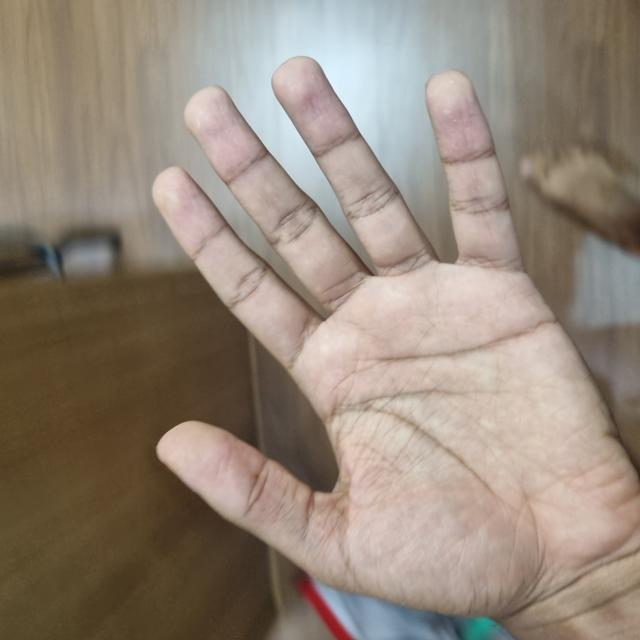Paper: (21, 147, 583, 640)
